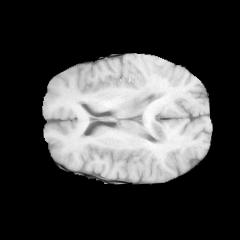glioma: (123, 81, 166, 140)
